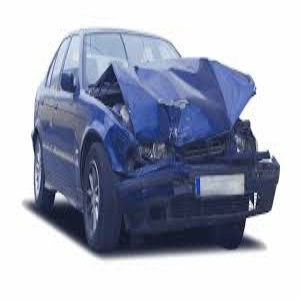bonnet: (102, 52, 258, 131)
bumper: (108, 159, 282, 235)
